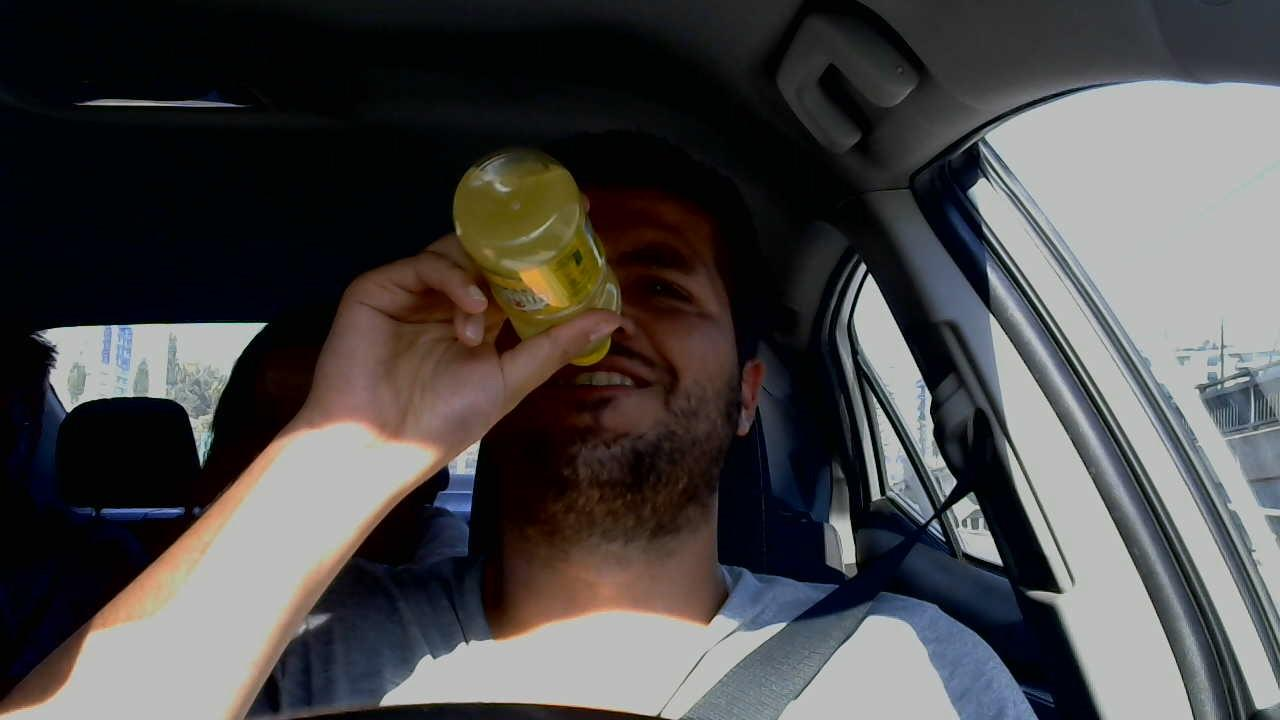Drinking: (433, 145, 764, 487)
